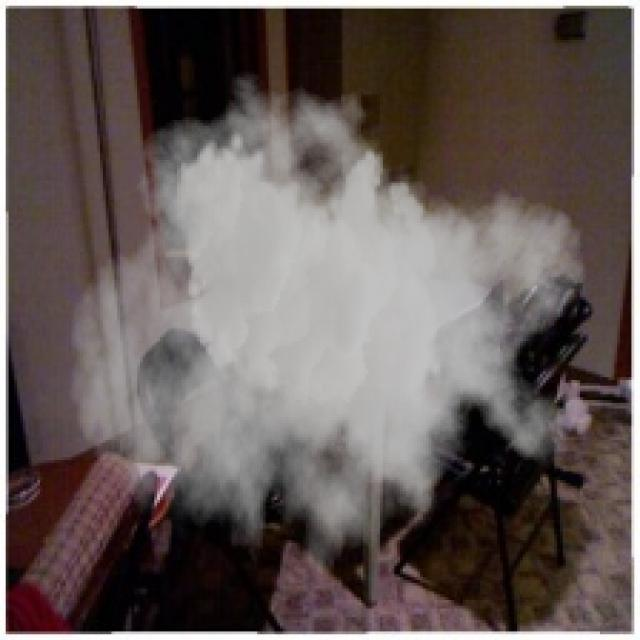Smoke: (69, 71, 588, 608)
